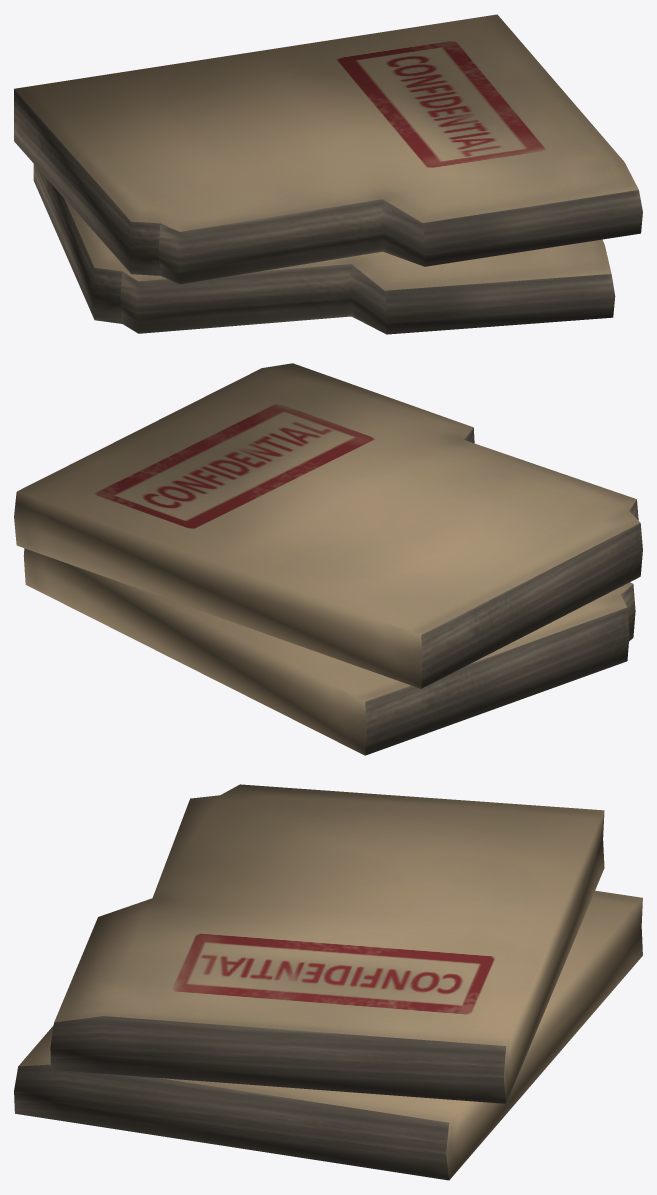
File: Files.FBX
3 renders of one model, top to bottom at view 1: azimuth 30°, elevation 25°; view 2: azimuth 150°, elevation 25°; view 3: azimuth 270°, elevation 25°, orthographic. The views are drawn at different scales.
Visible parts, largest first — view 1: Box148; view 2: Box148; view 3: Box148.
Part boxes in pixels (bbox=[...]): Box148: bbox=[14, 14, 642, 334]; Box148: bbox=[14, 363, 642, 755]; Box148: bbox=[14, 784, 642, 1180].
Bounding box in the file's own units: 114 × 23.7 × 108.
Materials: 1 (1 with a texture image).
